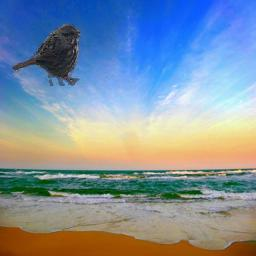Sparrow: (13, 22, 82, 86)
